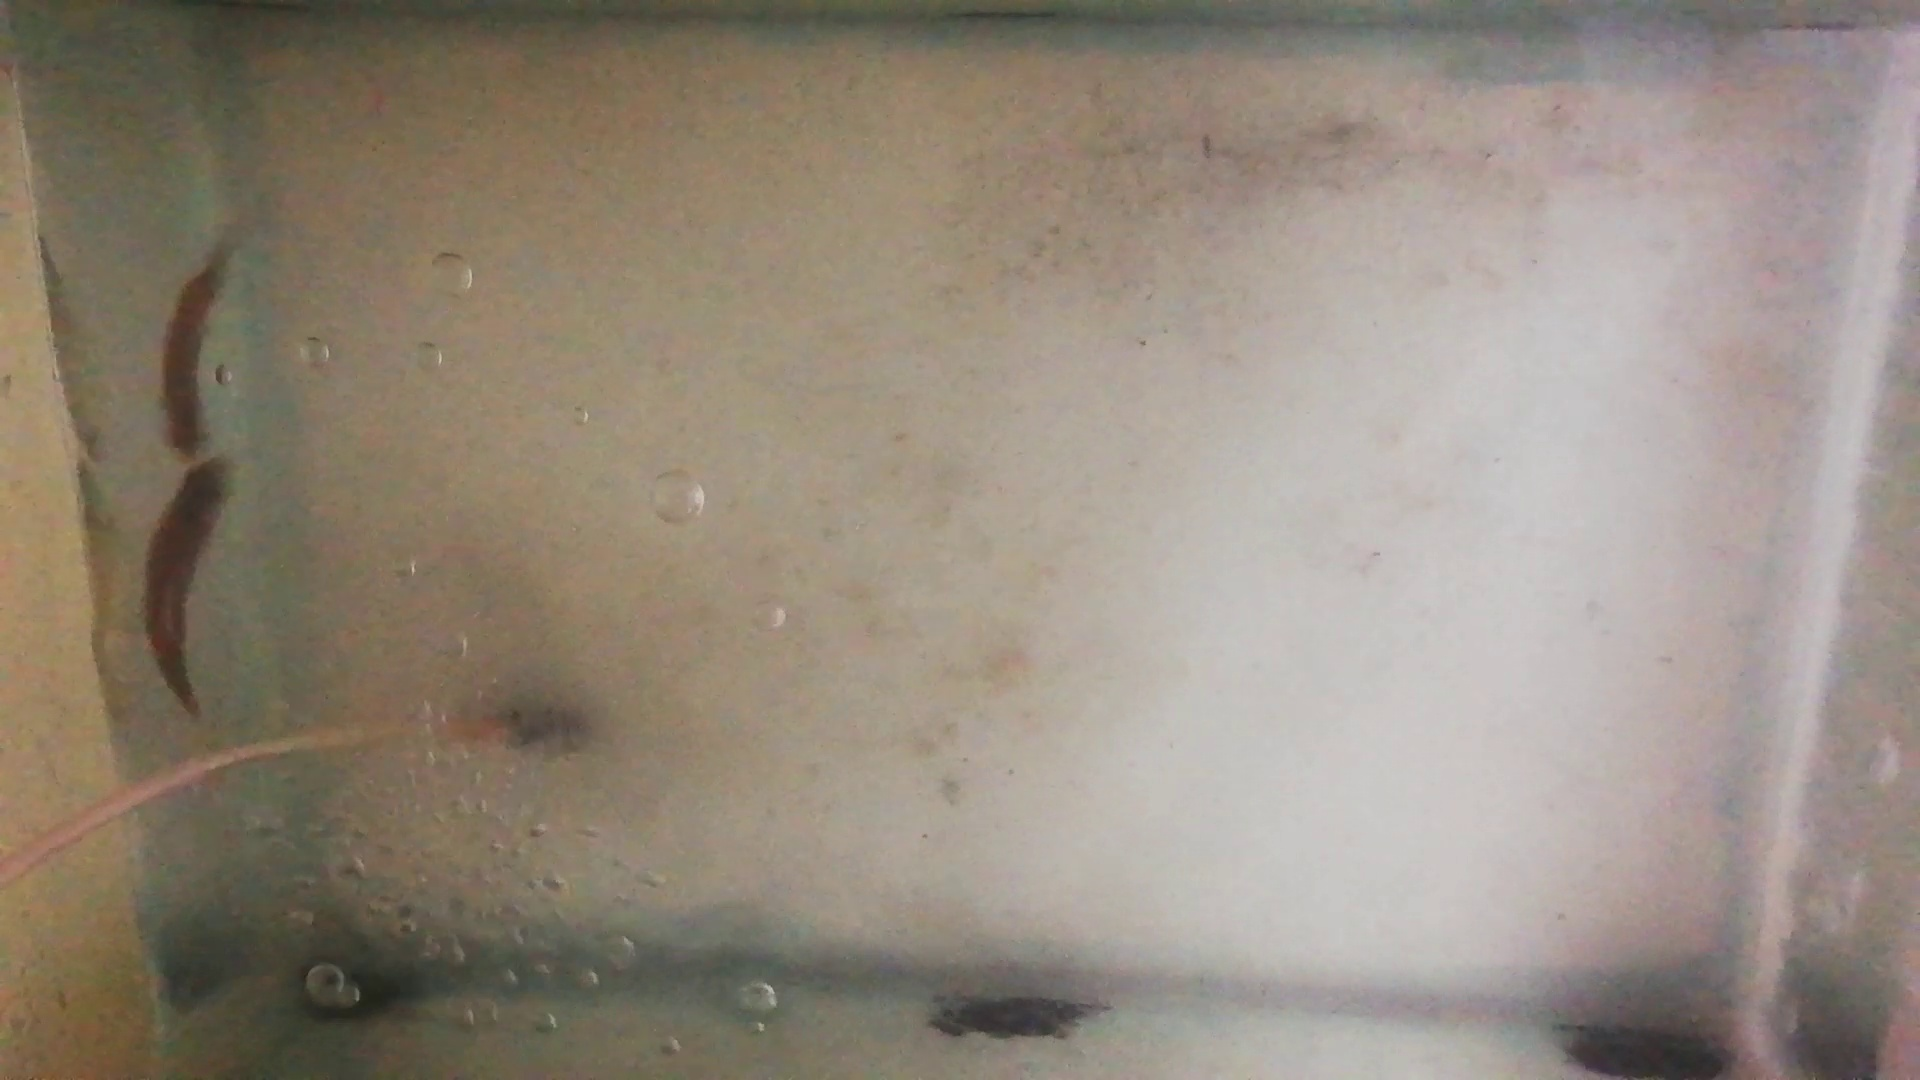fish: (140, 454, 237, 717), (157, 258, 231, 458)
